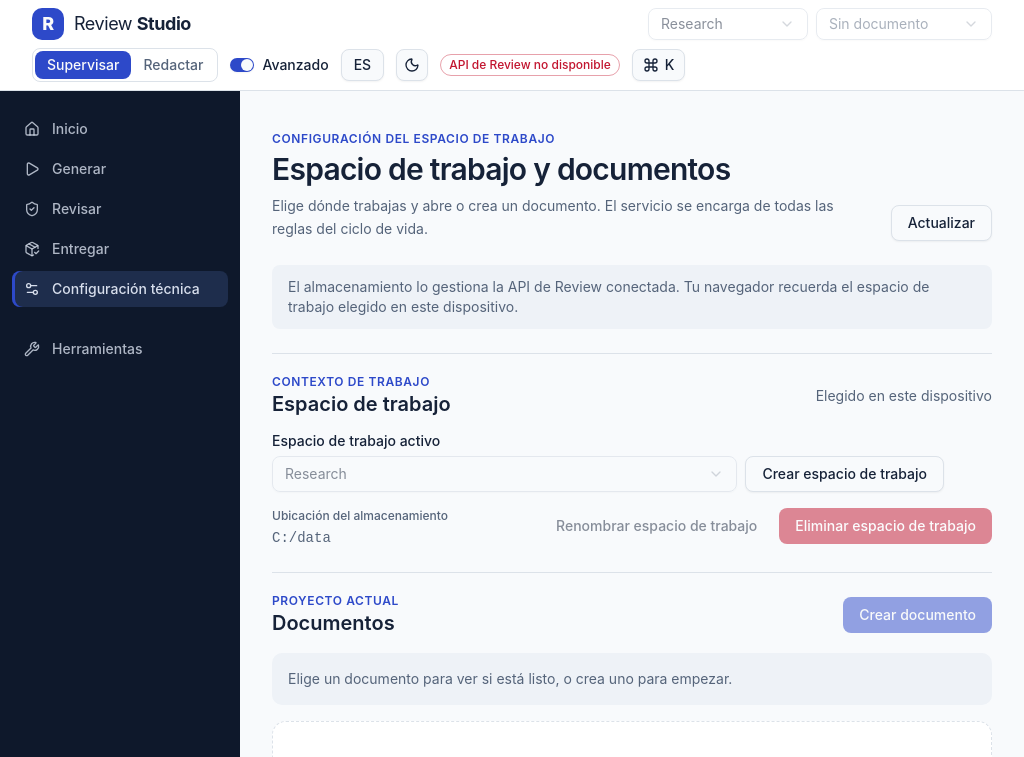
Scenario: language switch › renders the workspace screen in Spanish, then in English after the switch
Expected: the heading "Espacio de trabajo y documentos" is shown, [272,151,730,187]
Expected: the heading "Workspace and document control" is not shown
Click the button with aria-label "Idioma": (362, 65) [341,49,384,81]
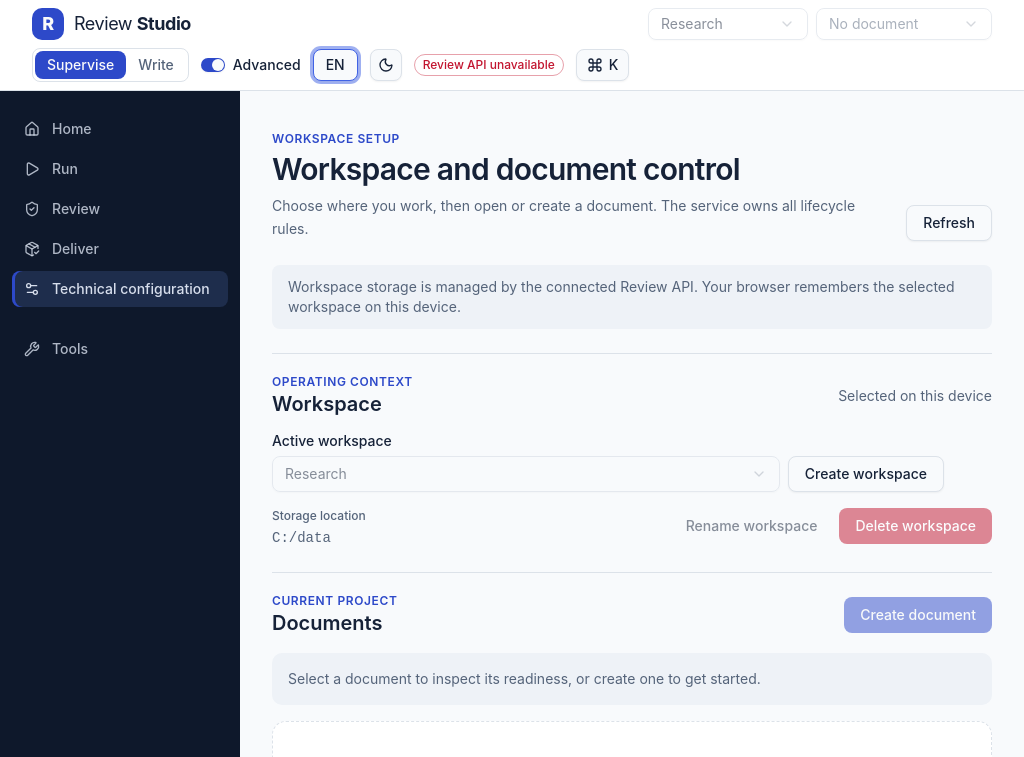
Expected: the heading "Workspace and document control" is shown, [272,151,740,187]
